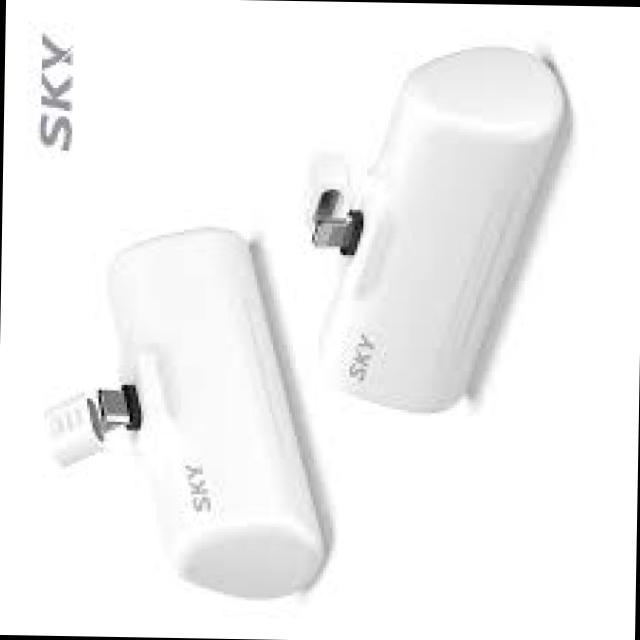power_bank: (42, 219, 334, 604), (298, 39, 572, 426)
